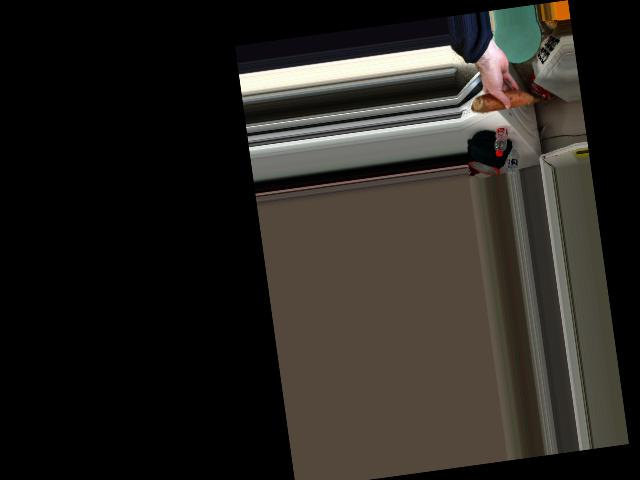sweet_potato: (476, 86, 537, 112)
